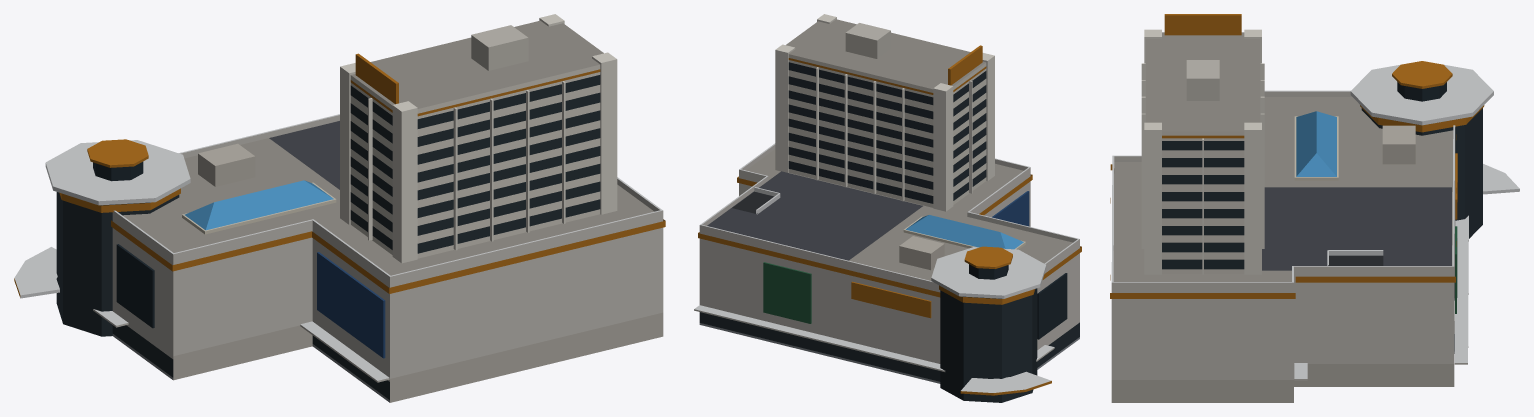
Rendered from mall-pekanbaru-lod1.glb.
3 views of the same model, side by side, from view 1: azimuth 30°, elevation 25°; view 2: azimuth 150°, elevation 25°; view 3: azimuth 270°, elevation 25° (orthographic). The views are drawn at different scales.
Visible parts, largest first — view 1: mall-pekanbaru_LOD1; view 2: mall-pekanbaru_LOD1; view 3: mall-pekanbaru_LOD1.
Boxes of the visible parts, x1,y1,x2,y2 form: mall-pekanbaru_LOD1: (14, 14, 665, 402); mall-pekanbaru_LOD1: (694, 14, 1081, 402); mall-pekanbaru_LOD1: (1110, 14, 1519, 402).
Size of the model in its own units: 94.52 by 56.1 by 74.42.
